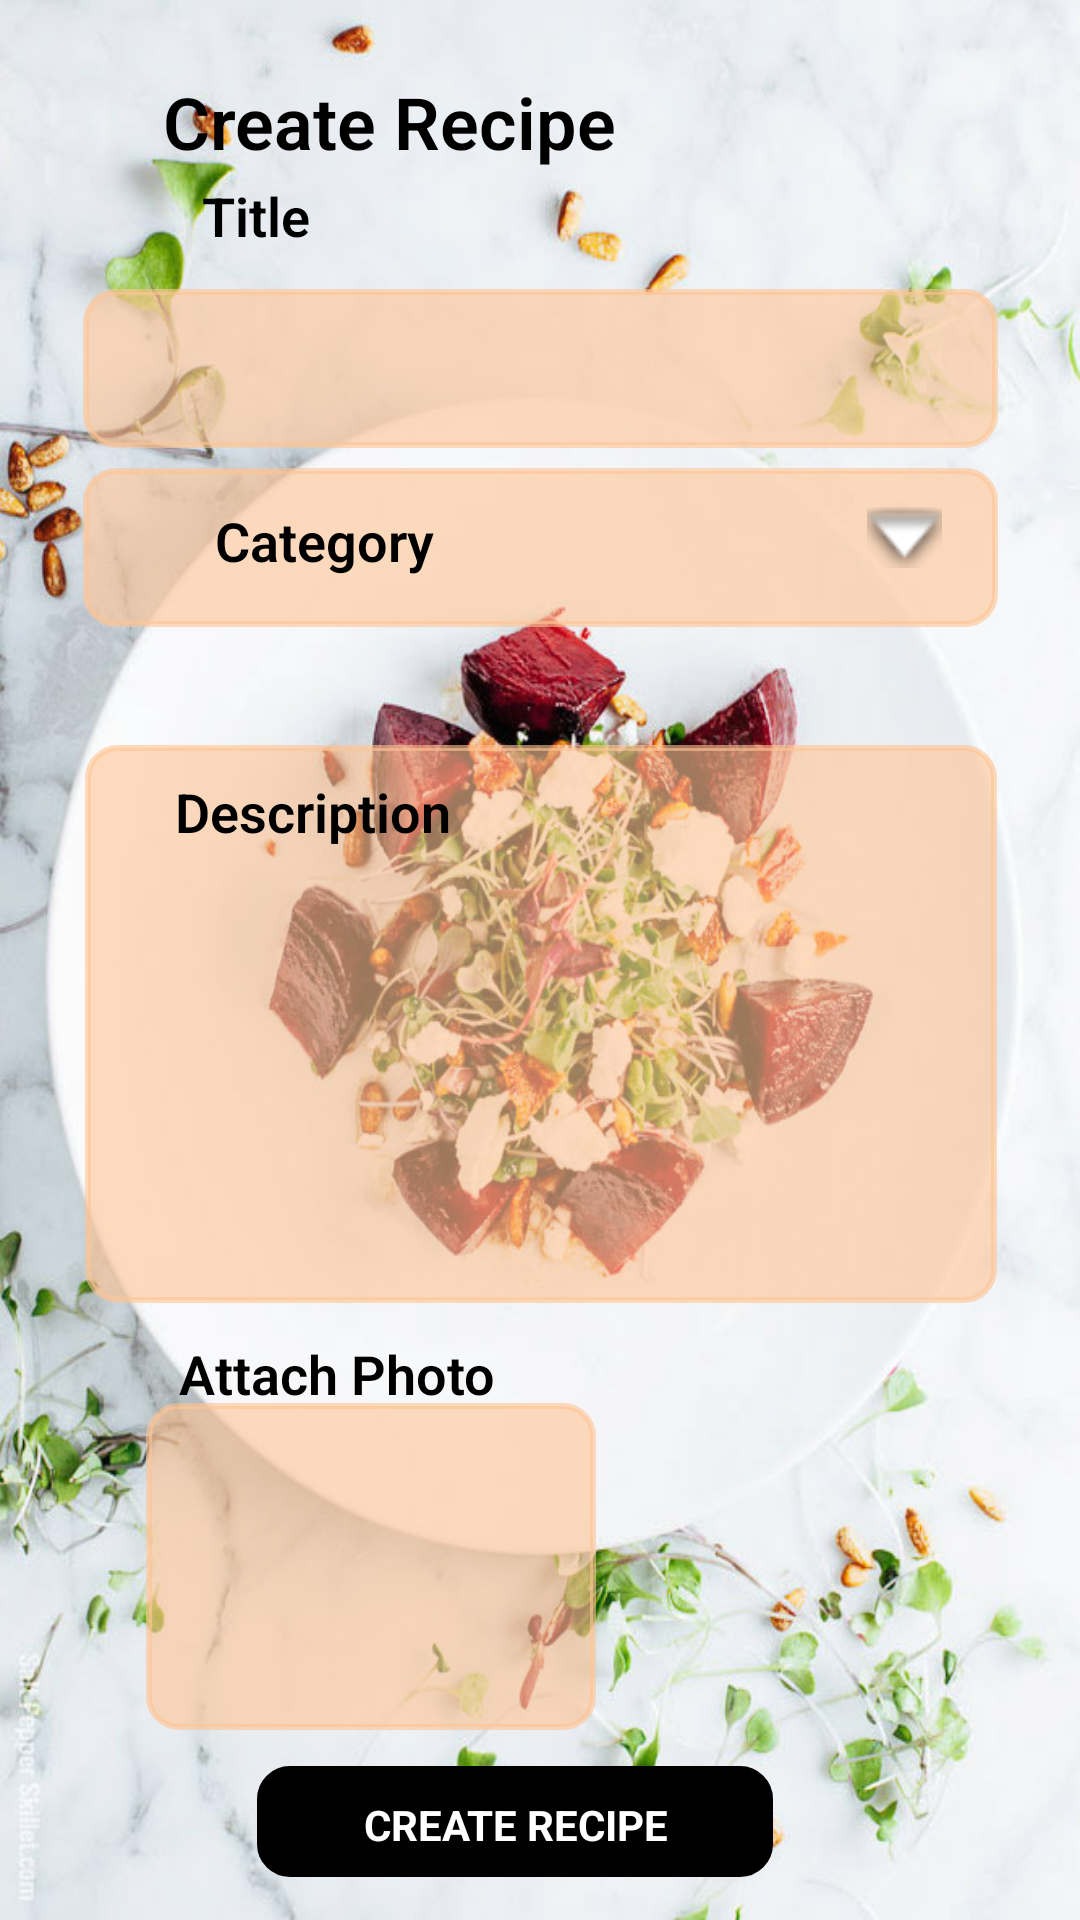

Icons on this 1080 × 1920 Android screen, each with its box as [x1=x1, y1=y1, x2=x2, y2=y2]:
arrow down float: [x1=867, y1=508, x2=942, y2=566]
